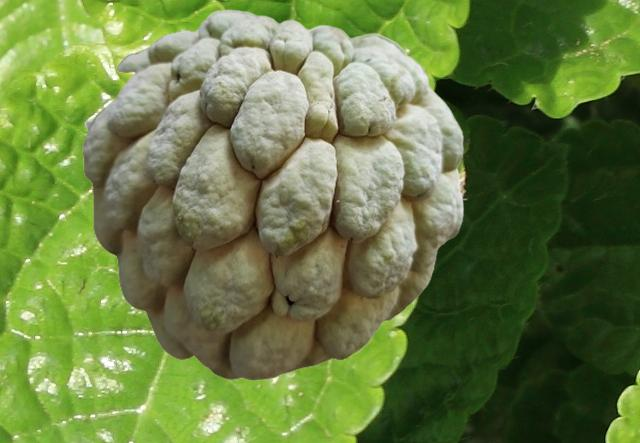atis: (81, 9, 463, 379)
